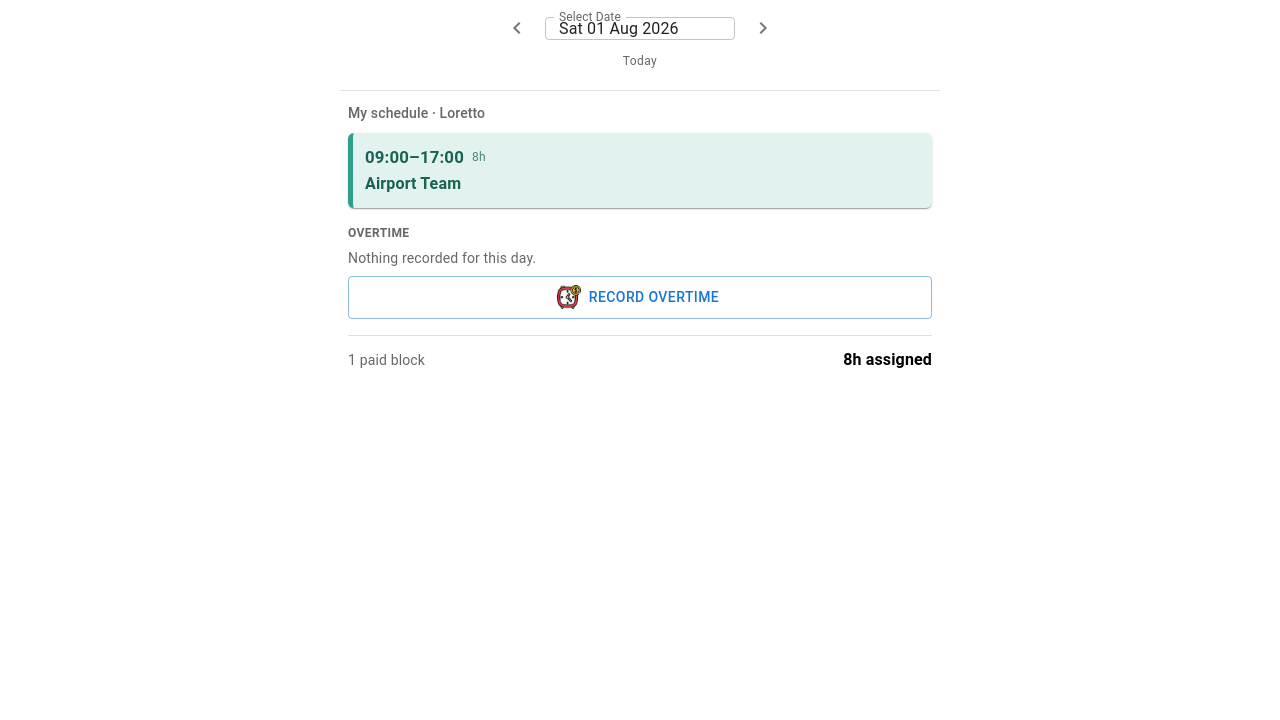
records overtime and shows it straight away
Check: the text "Airport Team" is shown, box [365, 174, 461, 193]
Check: the text "Nothing recorded for this day." is shown, box [348, 250, 536, 266]
Click the button "Record overtime": (640, 297) [348, 276, 932, 319]
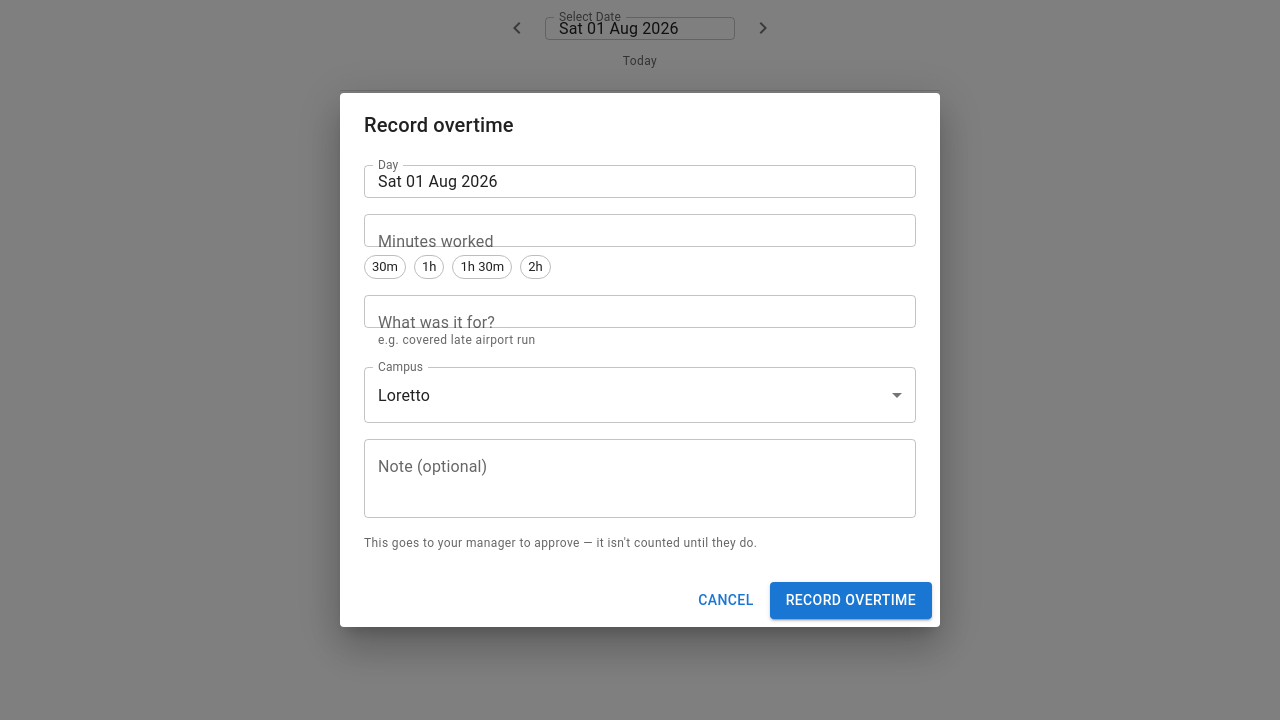
In the number field labelled "Minutes worked": (640, 231) [364, 214, 916, 247], type "90"
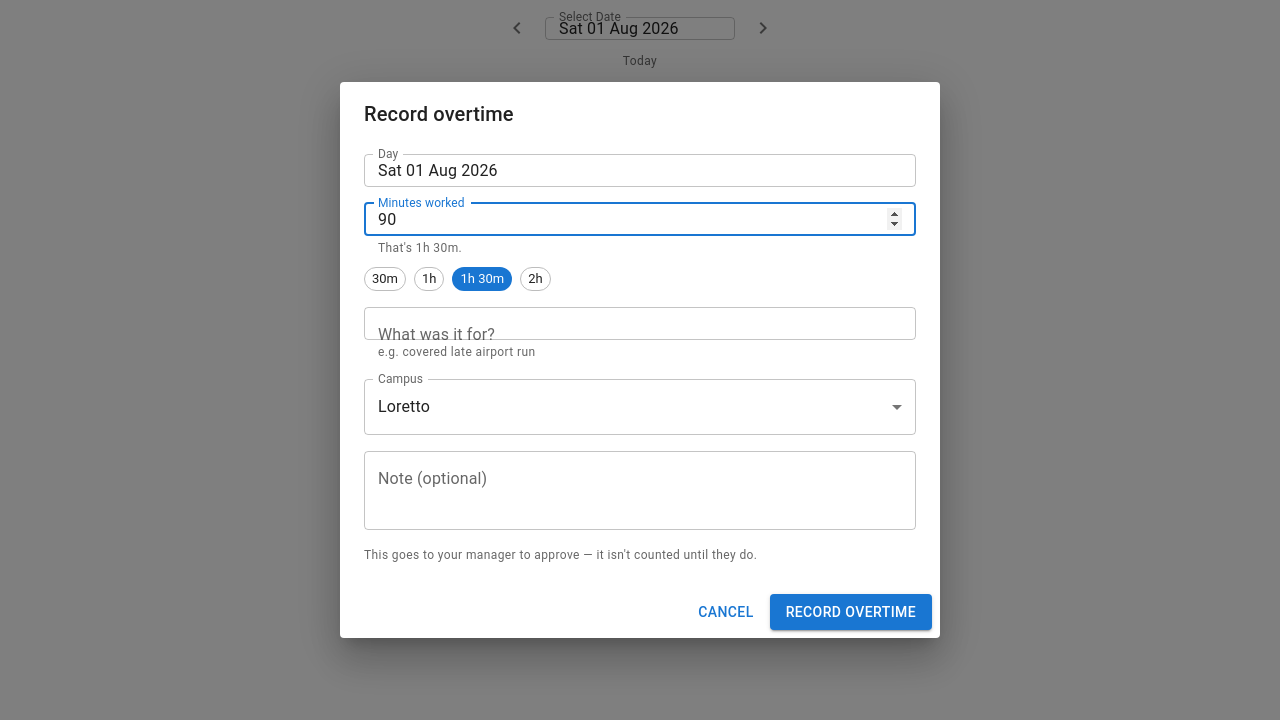
In the field labelled "What was it for?": (640, 323) [364, 307, 916, 340], type "Late airport run"
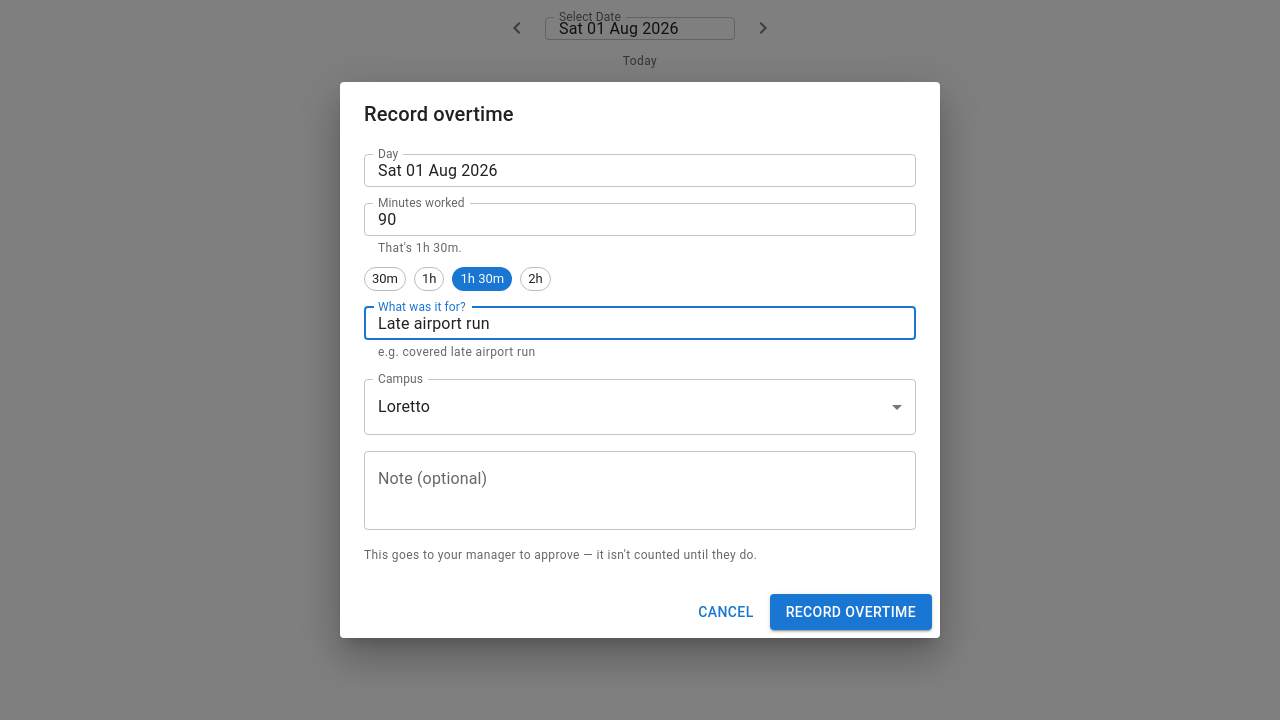
Click the button "Record overtime": (851, 612) [770, 594, 932, 630]
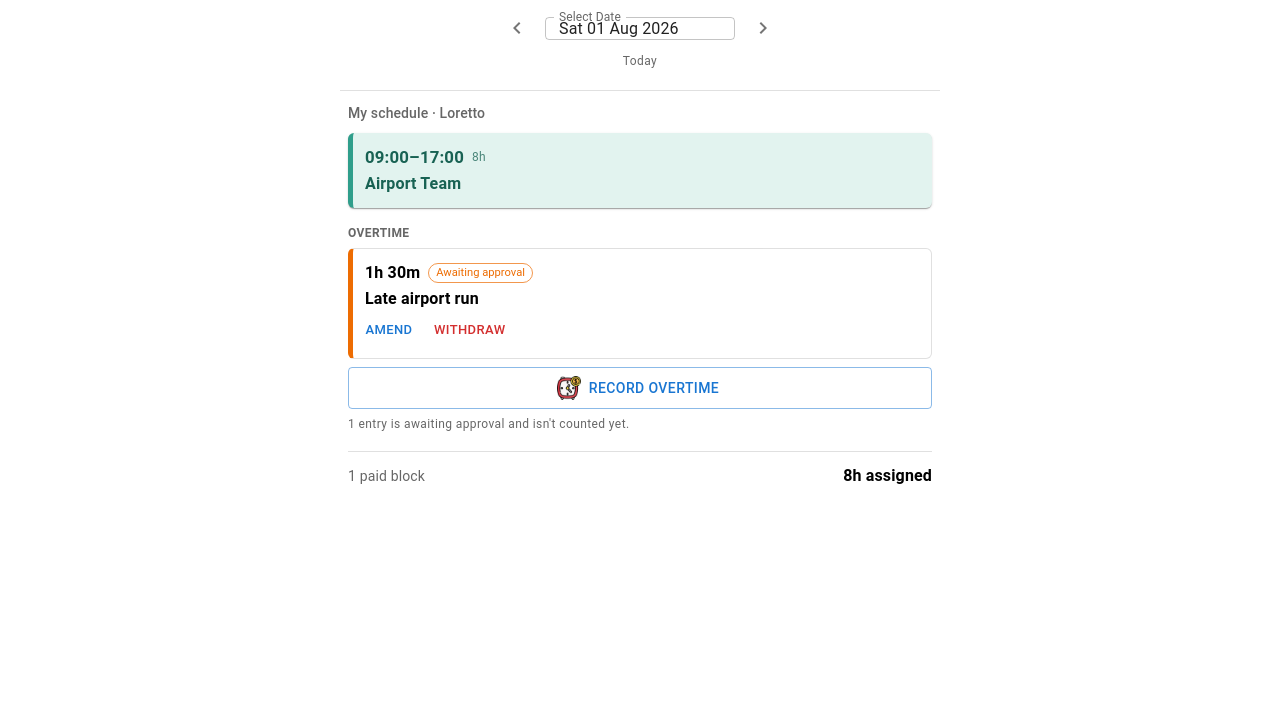
Check: the text "Late airport run" is shown, box [365, 289, 479, 308]
Check: the text "Awaiting approval" is shown, box [429, 265, 532, 281]
